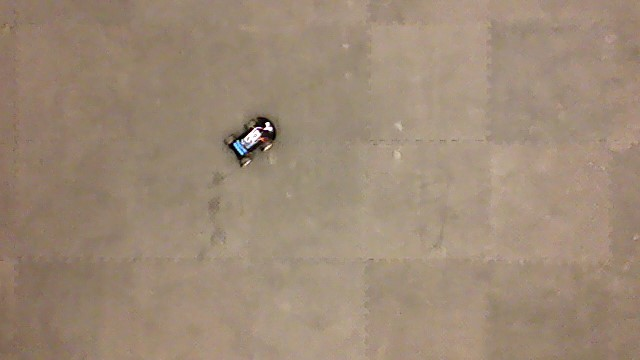Agent: (222, 114, 279, 169)
